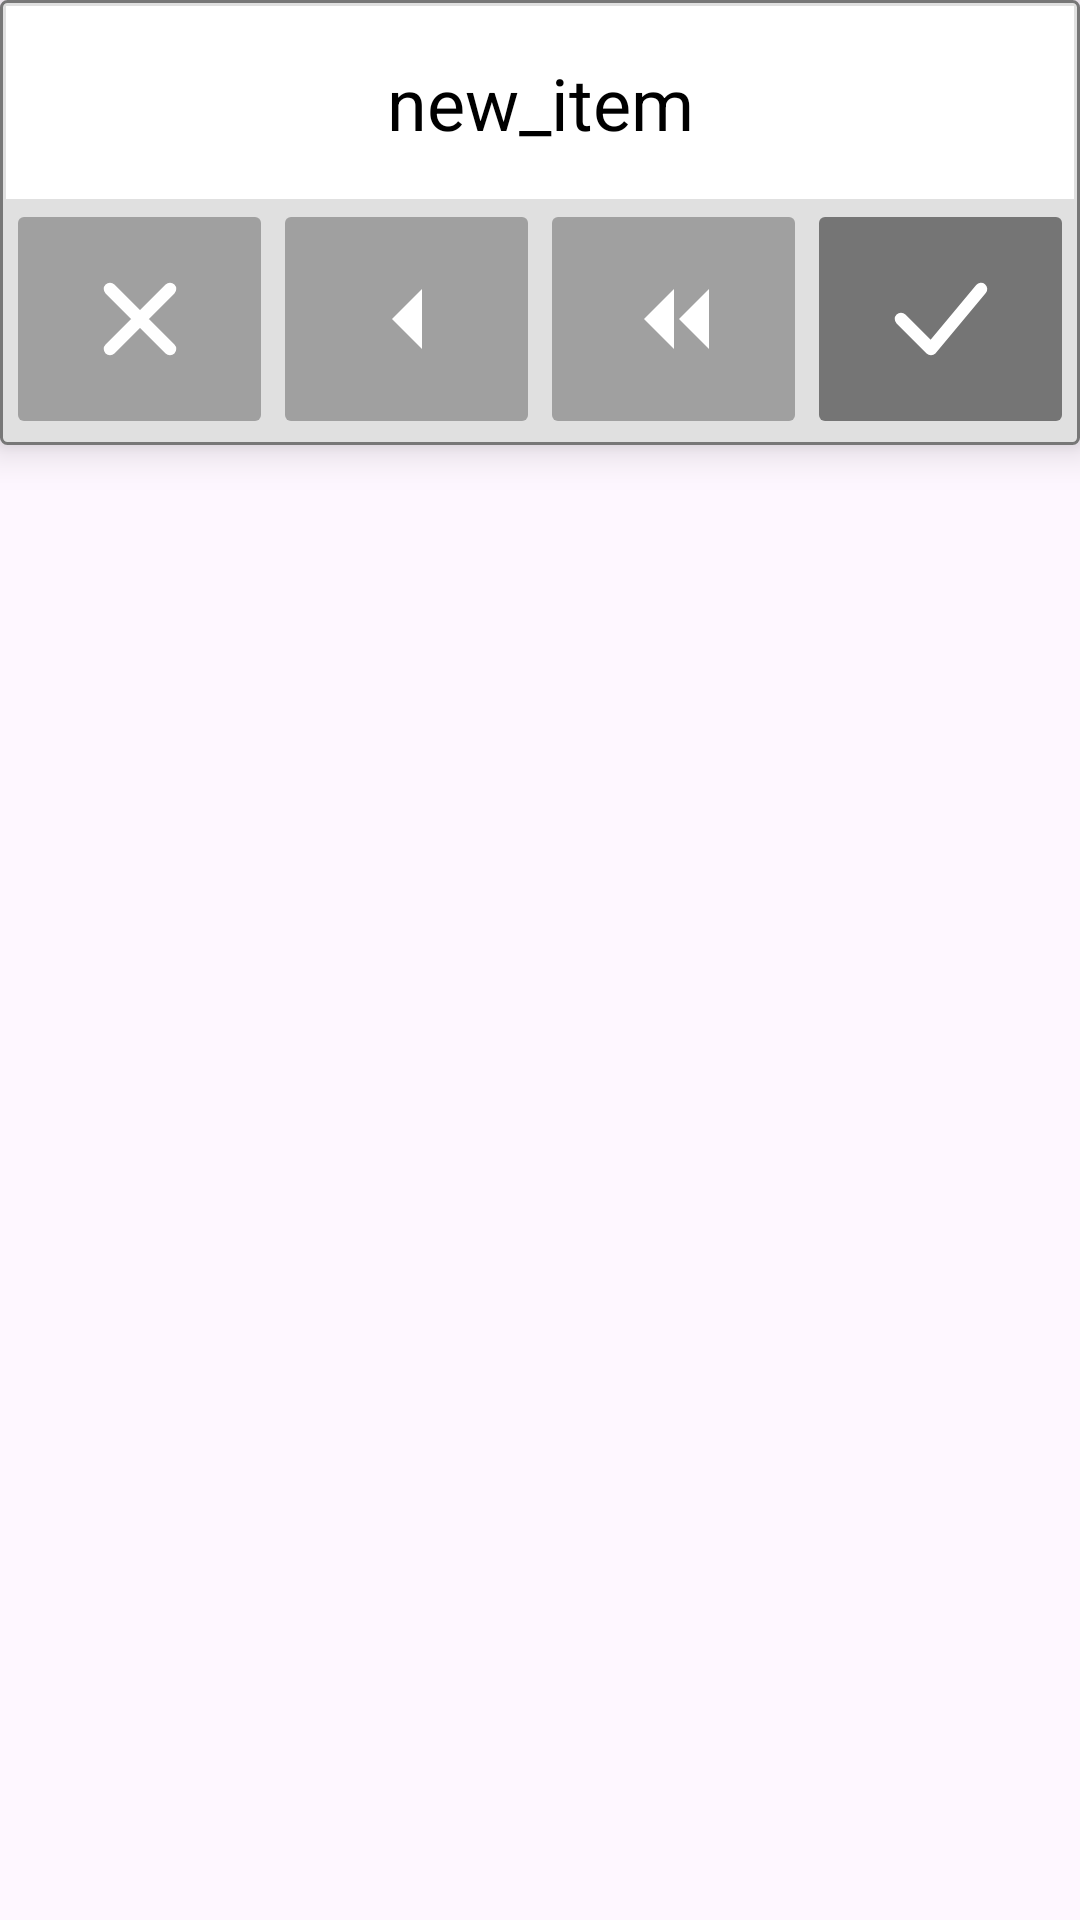

Named icons in this screenshot (1080 × 1920) and their bounding boxes, (x1, y1, x2, y2):
keypad arrow left: (285, 217, 528, 421)
keypad close: (18, 217, 261, 421)
keypad done: (819, 217, 1062, 421)
keypad double arrow left: (552, 217, 795, 421)
